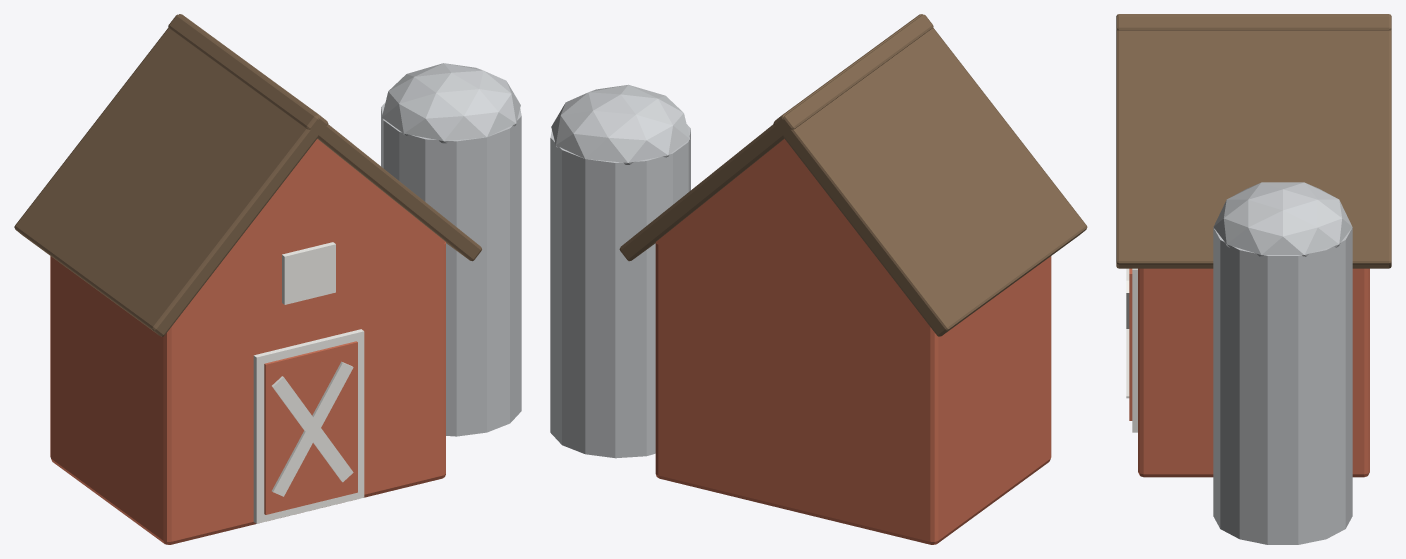
Rendered from celeiro.glb.
3 views of the same model, side by side, from view 1: azimuth 30°, elevation 25°; view 2: azimuth 150°, elevation 25°; view 3: azimuth 270°, elevation 25° (orthographic). The views are drawn at different scales.
Parts seen in each view (by area): view 1: agro_celeiro_00; view 2: agro_celeiro_00; view 3: agro_celeiro_00.
Part boxes in pixels (box(x1,y1,x2,y2)): agro_celeiro_00: box(14, 14, 521, 544); agro_celeiro_00: box(550, 14, 1087, 544); agro_celeiro_00: box(1116, 14, 1391, 544).
Size of the model in its own units: 1.73 by 1.51 by 0.95.
